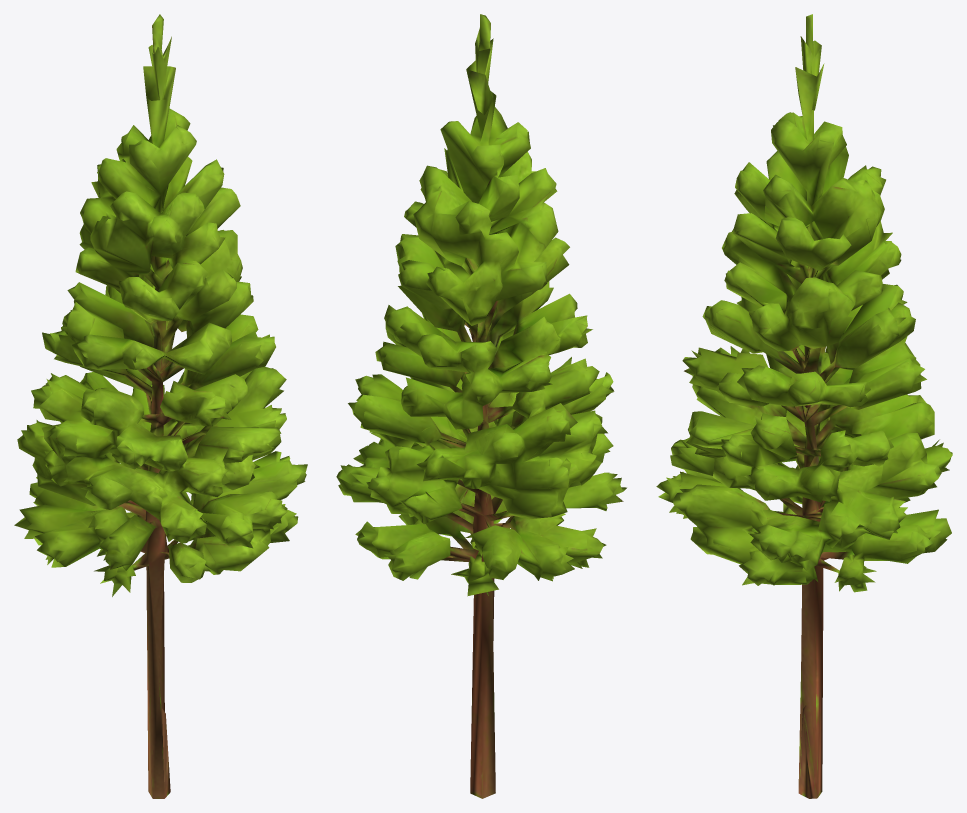
The model's file is tree_fir.glb.
The picture shows the model from 3 angles, left to right: view 1: azimuth 30°, elevation 25°; view 2: azimuth 150°, elevation 25°; view 3: azimuth 270°, elevation 25°; orthographic projection.
Visible parts, largest first — view 1: Mesh1.0; view 2: Mesh1.0; view 3: Mesh1.0.
Boxes of the visible parts, x1,y1,x2,y2 form: Mesh1.0: (14, 14, 307, 798); Mesh1.0: (336, 14, 626, 798); Mesh1.0: (656, 14, 952, 798).
Size of the model in its own units: 0.6313 by 1.86 by 0.6395.
1 material, 1 textured.
